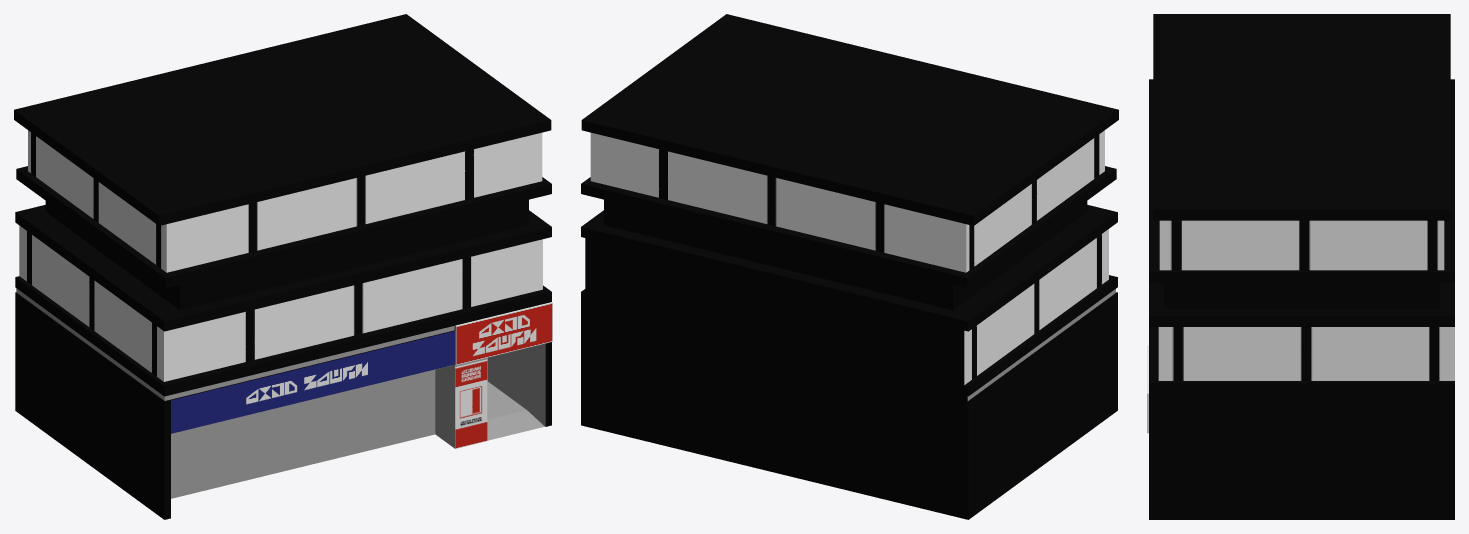
The model's file is BuildingD.fbx.
The picture shows the model from 3 angles, left to right: view 1: azimuth 30°, elevation 25°; view 2: azimuth 150°, elevation 25°; view 3: azimuth 270°, elevation 25°; orthographic projection. The views are drawn at different scales.
Visible parts, largest first — view 1: BuildingD; view 2: BuildingD; view 3: BuildingD.
Part boxes in pixels (left/top/right/bottom): BuildingD: left=14, top=14, right=552, bottom=519; BuildingD: left=581, top=14, right=1118, bottom=519; BuildingD: left=1147, top=14, right=1454, bottom=519.
Bounding box in the file's own units: 12.15 × 8.06 × 8.98.
